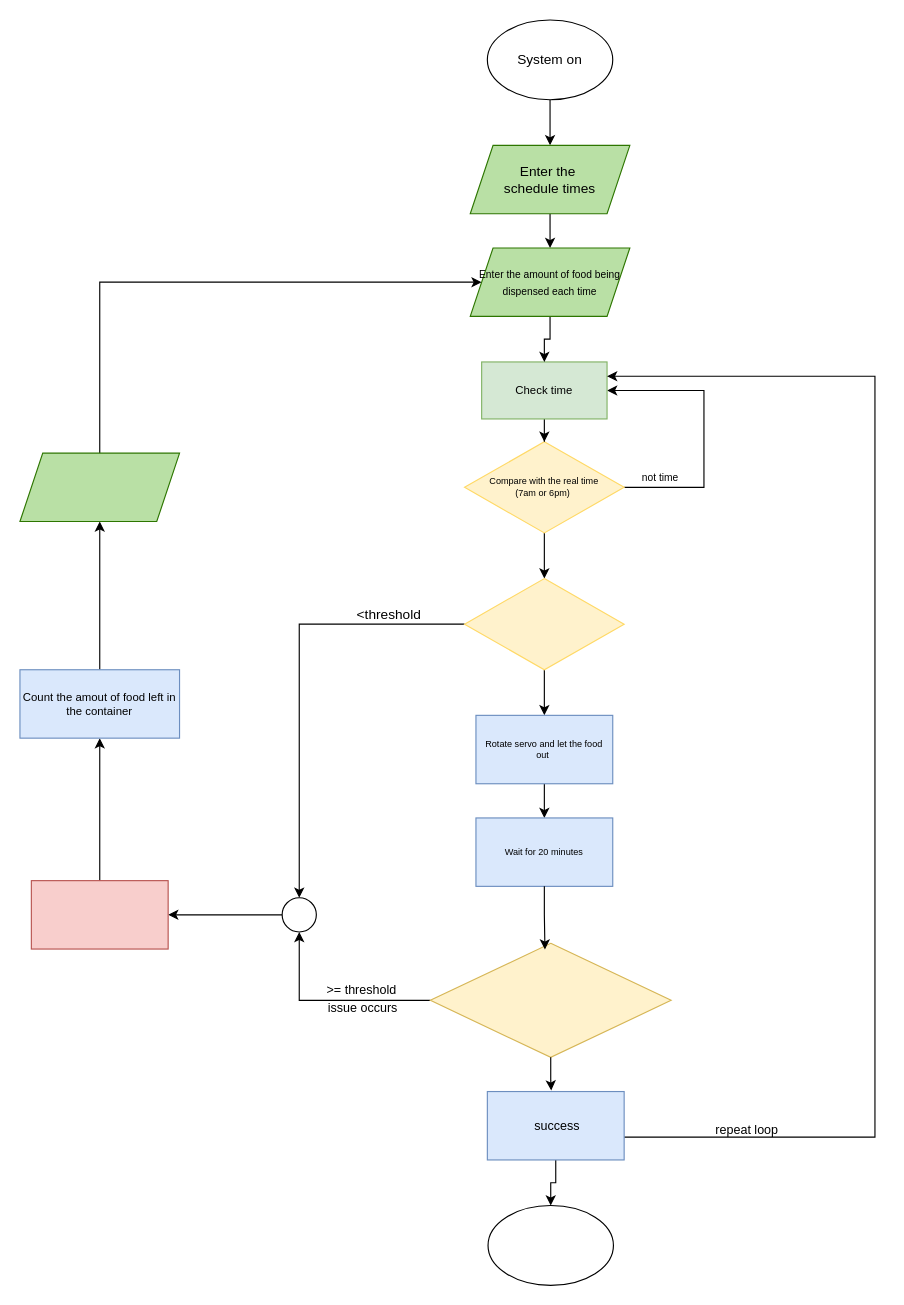
Some shapes in this 904 by 1305 pixel diagram are drawn without their labels. Each missing label, with the centre of its shape:
"Compare the amount of food with the amount of food after feeding" goes at (x=550, y=999).
"Send mesage to the user" goes at (x=99, y=487).
"System off" goes at (x=550, y=1244).
"Trigger alert" goes at (x=99, y=914).
"verify the amount of food in the container" goes at (x=543, y=623).
